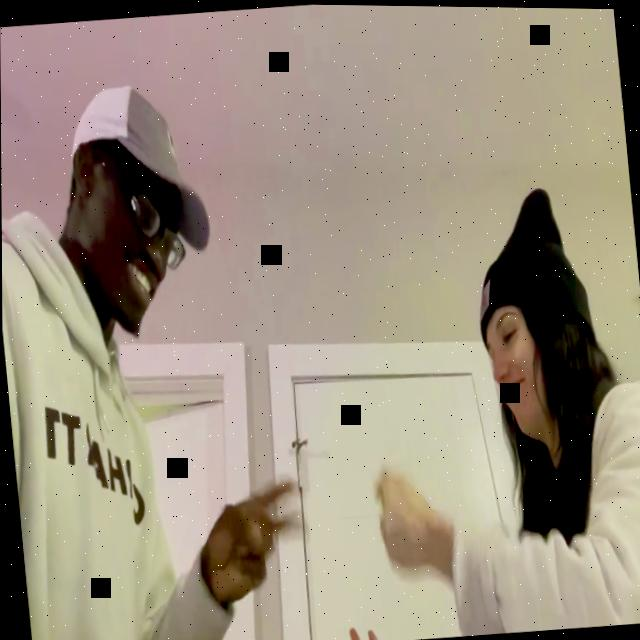Rock: (370, 462, 446, 580)
Scissors: (202, 476, 312, 603)
